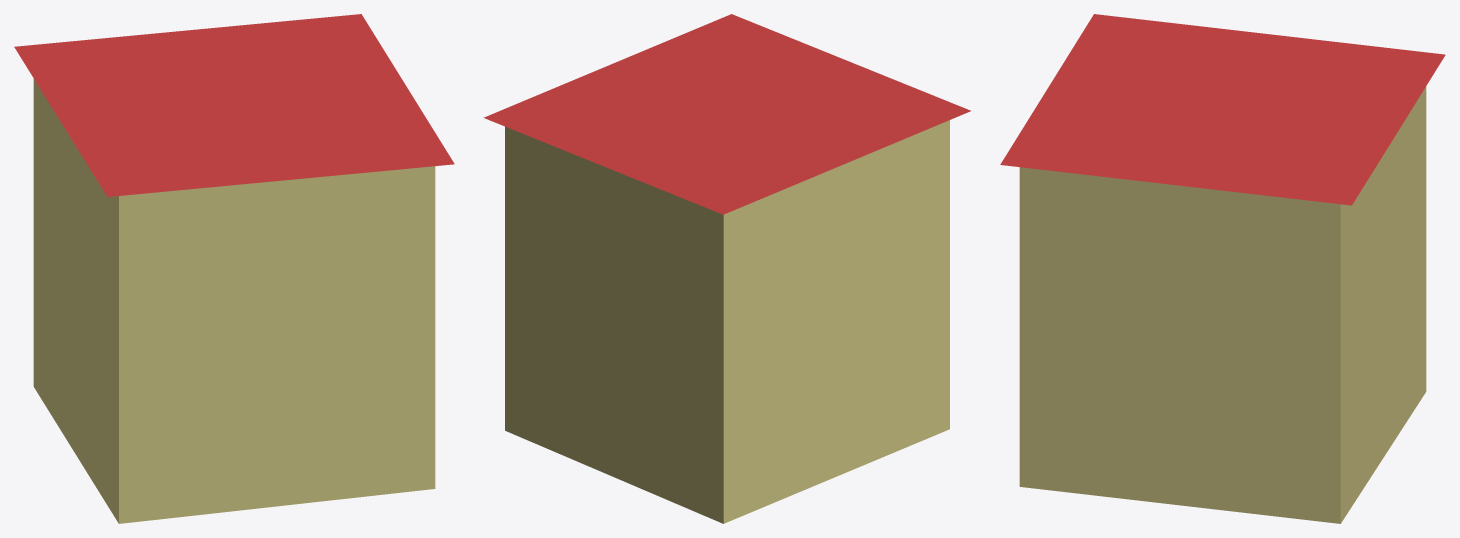
3 views of the same model, side by side, from view 1: azimuth 30°, elevation 25°; view 2: azimuth 150°, elevation 25°; view 3: azimuth 270°, elevation 25° (orthographic). The views are drawn at different scales.
Size of the model in its own units: 6.89 by 6.98 by 5.74.
